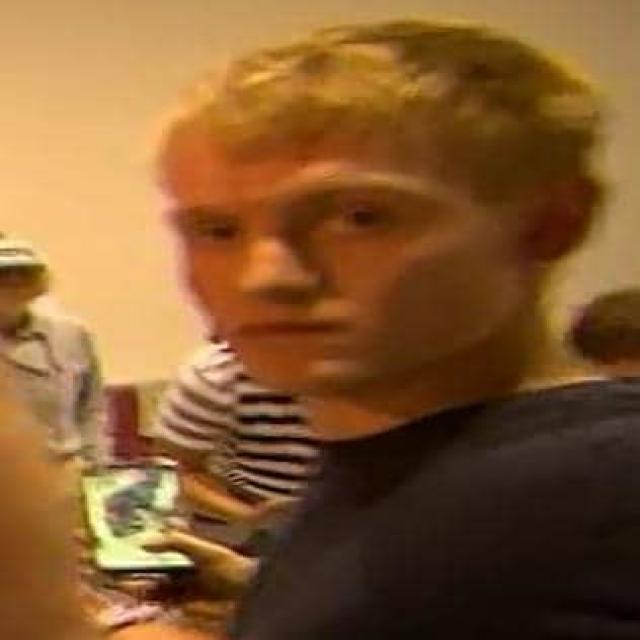mobile_phonerotation: (77, 461, 198, 579)
